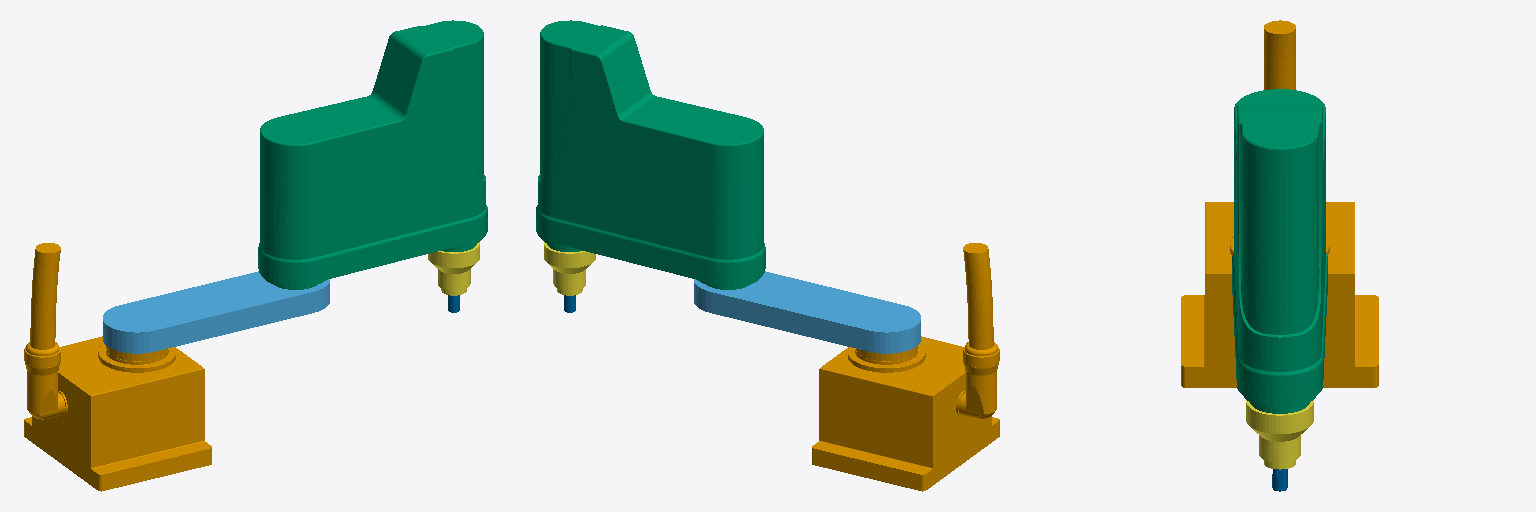
robot.urdf — Turin_SCARA:
<?xml version="1.0"?>

<robot name="Turin_SCARA">

<link name="base_link">
  <collision>
    <origin xyz="0 0 0.050" rpy="0 0 0"/>
    <geometry>
      <mesh filename="package://turin_description/meshes/STH030E-500/base_link.dae" scale=".001 .001 .001" />
    </geometry>
  </collision>

  <visual>
    <origin xyz="0 0 0.050" rpy="0 0 0"/>
    <geometry>
      <mesh filename="package://turin_description/meshes/STH030E-500/base_link.dae" scale=".001 .001 .001" />
    </geometry>
  </visual>
</link>

<joint name="J1" type="revolute">
  <parent link="base_link"/>
  <child link="link_1"/>
  <origin xyz="0.030 0 .2104"/>
  <axis xyz="0 0 1" />
  <limit effort="300" velocity="0.1" lower="-3.14" upper="3.14"/>
</joint>

<link name="link_1">
  <collision>
    <origin xyz="0 0 0.032" rpy="0 0 0"/>
    <geometry>
      <mesh filename="package://turin_description/meshes/STH030E-500/link_1.dae" scale=".001 .001 .001" />
    </geometry>
  </collision>

  <visual>
    <origin xyz="0 0 0.032" rpy="0 0 0"/>
    <geometry>
      <mesh filename="package://turin_description/meshes/STH030E-500/link_1.dae" scale=".001 .001 .001" />
    </geometry>
  </visual>
</link>

<joint name="J2" type="revolute">
  <parent link="link_1"/>
  <child link="link_2"/>
  <origin xyz="0.250 0 0.032"/>
  <axis xyz="0 0 1" />
  <limit effort="300" velocity="0.1" lower="-3.14" upper="3.14"/>
</joint>

<link name="link_2">
  <collision>
    <origin xyz="0 0 0" rpy="0 0 0"/>
    <geometry>
      <mesh filename="package://turin_description/meshes/STH030E-500/link_2.dae" scale=".001 .001 .001" />
    </geometry>
  </collision>

  <visual>
    <origin xyz="0 0 0" rpy="0 0 0"/>
    <geometry>
      <mesh filename="package://turin_description/meshes/STH030E-500/link_2.dae" scale=".001 .001 .001" />
    </geometry>
  </visual>
</link>

<joint name="J3" type="prismatic">
  <parent link="link_2"/>
  <child link="link_3"/>
  <origin xyz="0.250 0 -0.003"/>
  <axis xyz="0 0 1" />
  <limit effort="300" velocity="0.1" lower="-0.150" upper="0"/>
</joint>

<link name="link_3">
  <collision>
    <origin xyz="0 0 0" rpy="0 0 0"/>
    <geometry>
      <mesh filename="package://turin_description/meshes/STH030E-500/link_3.dae" scale=".001 .001 .001" />
    </geometry>
  </collision>

  <visual>
    <origin xyz="0 0 0" rpy="0 0 0"/>
    <geometry>
      <mesh filename="package://turin_description/meshes/STH030E-500/link_3.dae" scale=".001 .001 .001" />
    </geometry>
  </visual>
</link>

<joint name="J4" type="revolute">
  <parent link="link_3"/>
  <child link="link_4"/>
  <origin xyz="0 0 -0.072"/>
  <axis xyz="0 0 1" />
  <limit effort="300" velocity="0.1" lower="-3.14" upper="3.14"/>
</joint>

<link name="link_4">
  <collision>
    <origin xyz="0 0 0.3697" rpy="0 0 0"/>
    <geometry>
      <mesh filename="package://turin_description/meshes/STH030E-500/link_4.dae" scale=".001 .001 .001" />
    </geometry>
  </collision>

  <visual>
    <origin xyz="0 0 0.3697" rpy="0 0 0"/>
    <geometry>
      <mesh filename="package://turin_description/meshes/STH030E-500/link_4.dae" scale=".001 .001 .001" />
    </geometry>
  </visual>
</link>

</robot>

--- What the picture shows (computed from the rendered views, not written in the file) ---
The picture shows the robot from 3 angles, left to right: view 1: azimuth 30°, elevation 25°; view 2: azimuth 150°, elevation 25°; view 3: azimuth 270°, elevation 25°; orthographic projection.
Model Turin_SCARA with 5 links and 4 joints (3 revolute, 1 prismatic), rooted at base_link, posed every joint at zero.
Visible links, largest first — view 1: link_2, base_link, link_1, link_3; view 2: link_2, base_link, link_1, link_3; view 3: link_2, base_link, link_3.
Boxes of the visible links, left/top/right/bottom form: link_2: left=258, top=20, right=487, bottom=289; base_link: left=24, top=243, right=211, bottom=491; link_1: left=103, top=271, right=329, bottom=353; link_3: left=428, top=242, right=479, bottom=295; link_2: left=536, top=20, right=765, bottom=289; base_link: left=812, top=243, right=999, bottom=491; link_1: left=694, top=271, right=920, bottom=353; link_3: left=544, top=242, right=595, bottom=295; link_2: left=1232, top=89, right=1327, bottom=413; base_link: left=1181, top=20, right=1378, bottom=387; link_3: left=1246, top=400, right=1313, bottom=469.
Size in the robot's own frame: 0.7205 by 0.21 by 0.5059 metres.
5 mesh visuals loaded from 5 distinct referenced files (5 Collada DAE).
